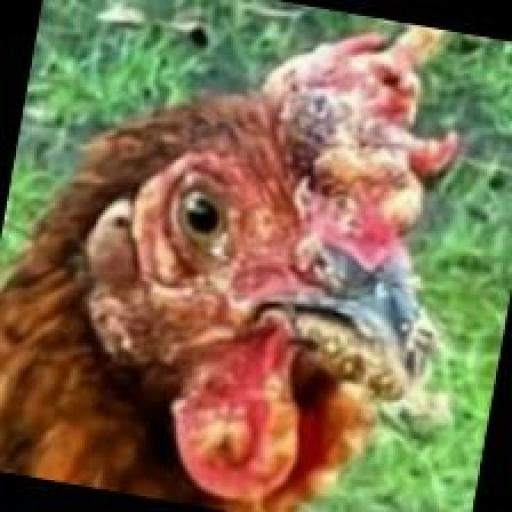disease: (92, 17, 486, 504)
